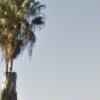Tree: (0, 0, 54, 71)
